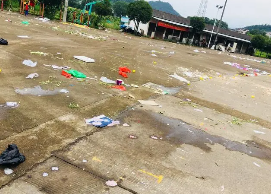garbage: (221, 59, 267, 82), (1, 143, 32, 173), (83, 113, 122, 134), (56, 69, 90, 85), (102, 76, 133, 93), (70, 51, 93, 65), (1, 98, 22, 113), (102, 175, 123, 188), (114, 66, 134, 79), (16, 58, 38, 69), (12, 18, 36, 27), (148, 50, 177, 57), (146, 134, 164, 142), (156, 90, 175, 97), (108, 34, 121, 43), (23, 73, 39, 80), (38, 17, 54, 23), (1, 37, 11, 46)
